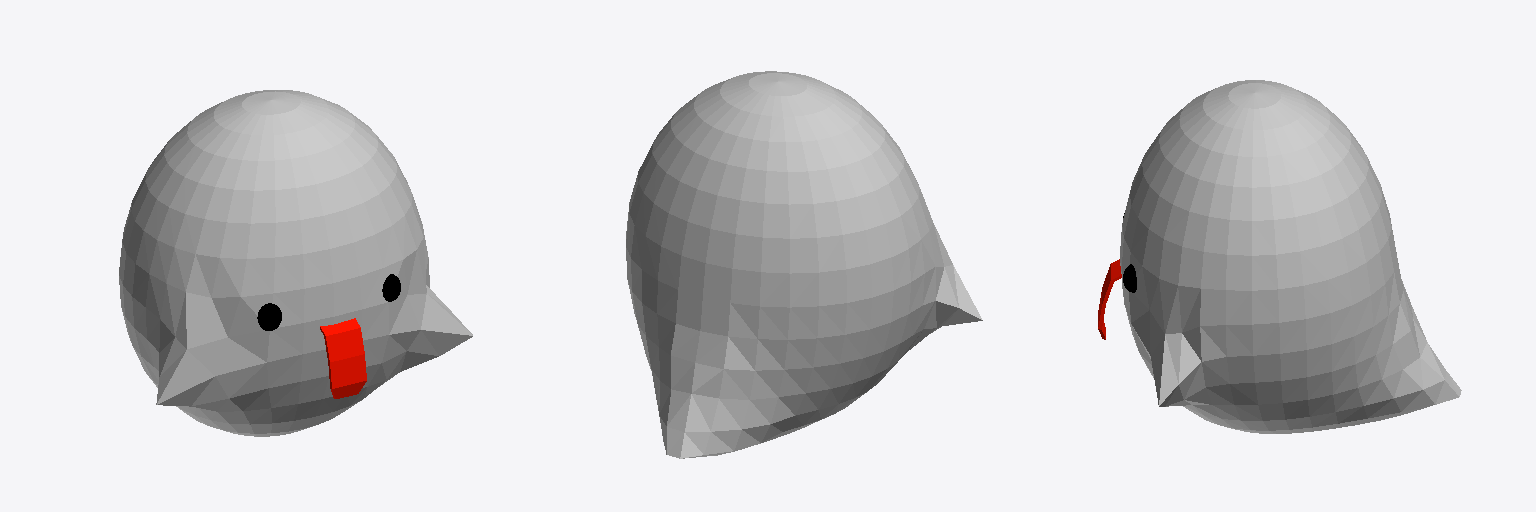
The picture shows the model from 3 angles: view 1: azimuth 30°, elevation 25°; view 2: azimuth 150°, elevation 25°; view 3: azimuth 270°, elevation 25°; orthographic projection.
Visible parts, largest first — view 1: BigEnemy.002, BigEnemy.001, BigEnemy; view 2: BigEnemy.002; view 3: BigEnemy.002, BigEnemy.001.
Part boxes in pixels (x1,y1,x2,y2): BigEnemy.002: (119,90,472,436); BigEnemy.001: (320,318,366,398); BigEnemy: (257,303,281,330); BigEnemy.002: (626,71,982,458); BigEnemy.002: (1120,80,1461,433); BigEnemy.001: (1098,259,1121,339).
Size of the model in its own units: 2 by 2 by 2.
Materials: 4 (2 with a texture image).